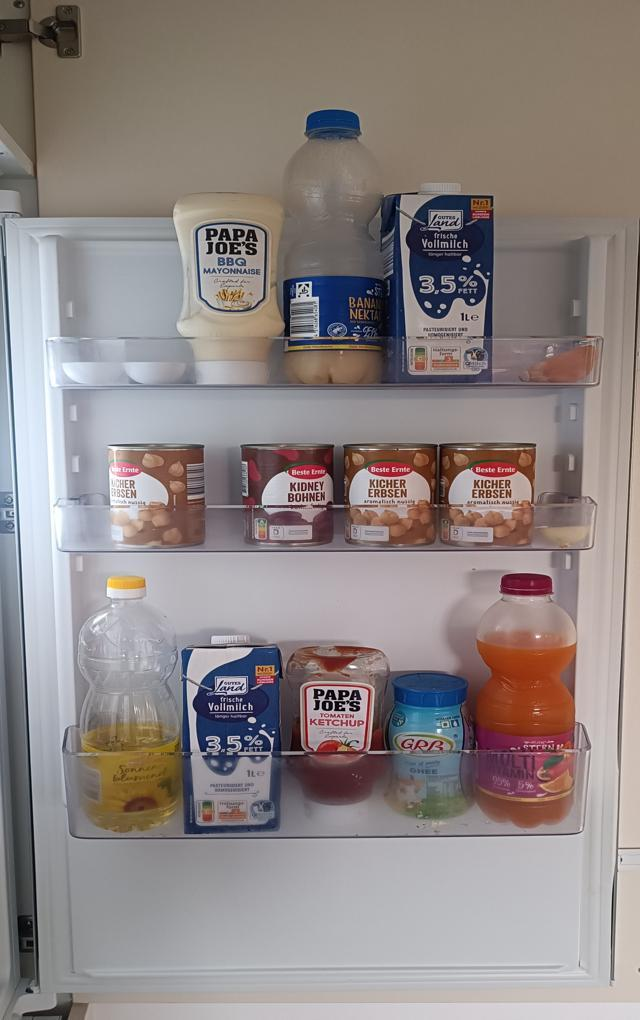bananajuice: (284, 108, 387, 387)
chickpeas: (108, 442, 206, 548), (343, 444, 436, 549), (441, 446, 536, 547)
ghee: (385, 671, 479, 818)
kidneybeans: (239, 440, 335, 543)
mayoniasie: (174, 191, 286, 385)
milk: (381, 181, 494, 394), (185, 633, 282, 836)
oil: (80, 572, 185, 835)
orangejuice: (475, 572, 580, 831)
tomatoketchup: (287, 648, 390, 824)
